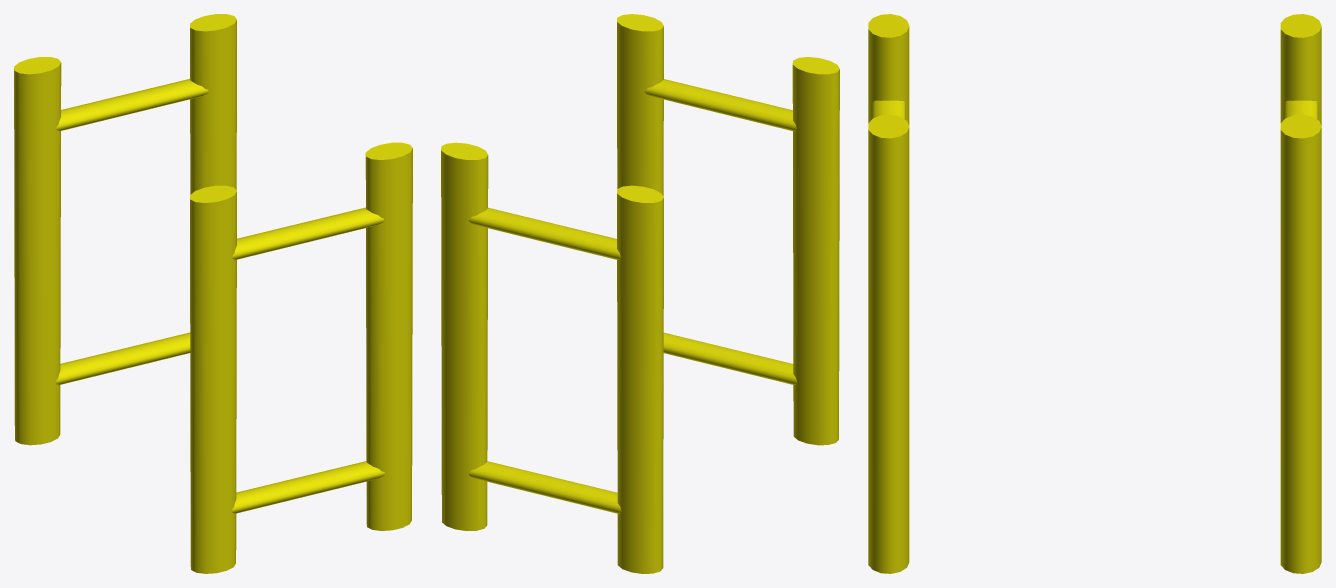
The model's file is Rail_Support_Incline_01.fbx.
3 renders of one model, left to right at view 1: azimuth 30°, elevation 25°; view 2: azimuth 150°, elevation 25°; view 3: azimuth 270°, elevation 25°, orthographic. The views are drawn at different scales.
Visible parts, largest first — view 1: Rail_Incline_Support; view 2: Rail_Incline_Support; view 3: Rail_Incline_Support.
Part boxes in pixels (box(x1,y1,x2,y2)): Rail_Incline_Support: box(14, 14, 412, 573); Rail_Incline_Support: box(441, 14, 839, 573); Rail_Incline_Support: box(868, 14, 1321, 573).
Bounding box in the file's own units: 1.25 × 2.02 × 1.9.
